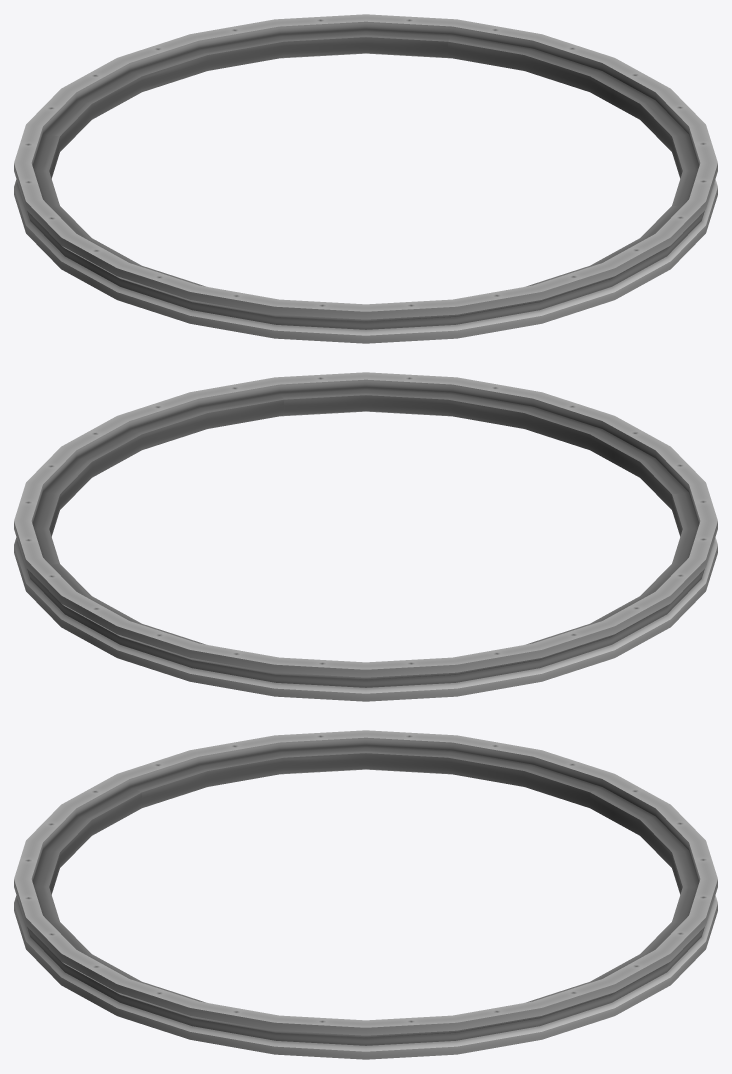
File: LLV_V_Decoupler_1.obj
3 views of the same model, one above another, from view 1: azimuth 30°, elevation 25°; view 2: azimuth 150°, elevation 25°; view 3: azimuth 270°, elevation 25° (orthographic).
Parts seen in each view (by area): view 1: LLV_V_Decoupler_1; view 2: LLV_V_Decoupler_1; view 3: LLV_V_Decoupler_1.
Boxes of the visible parts, bbox=[...] form: LLV_V_Decoupler_1: bbox=[14, 14, 717, 343]; LLV_V_Decoupler_1: bbox=[14, 372, 717, 701]; LLV_V_Decoupler_1: bbox=[14, 730, 717, 1059].
Bounding box in the file's own units: 2.5 × 0.125 × 2.5.
Materials: 1 (1 with a texture image).
